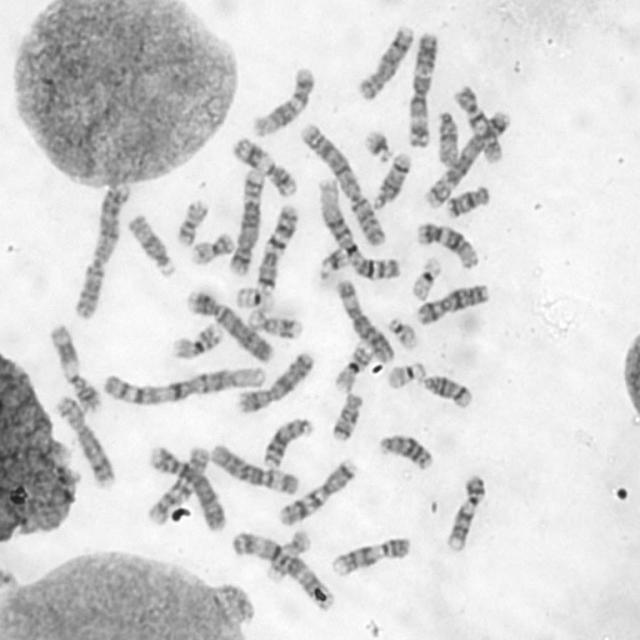A1: (317, 176, 401, 280), (103, 363, 264, 407)
A2: (300, 121, 387, 246), (75, 181, 130, 320)
A3: (232, 530, 335, 610), (407, 32, 441, 150)
B4: (148, 441, 228, 531), (187, 289, 275, 363)
B5: (424, 112, 513, 206), (227, 168, 265, 274)
C10: (149, 446, 212, 526), (450, 84, 502, 163)
C11: (48, 324, 102, 411), (234, 135, 298, 195)
C12: (253, 65, 317, 138), (414, 223, 478, 269)
C6: (208, 443, 298, 494), (336, 280, 392, 360)
C7: (279, 457, 358, 529), (255, 203, 297, 288)
C8: (56, 394, 116, 486), (357, 24, 415, 100)
C9: (330, 535, 410, 580), (446, 473, 490, 554)
D13: (262, 417, 316, 469), (377, 429, 434, 475)
D14: (372, 151, 411, 208), (419, 376, 474, 410)
D15: (126, 213, 176, 276), (435, 110, 461, 166)
E16: (334, 339, 374, 393), (172, 322, 222, 360)
E17: (267, 526, 311, 584), (248, 307, 302, 338)
E18: (329, 393, 362, 442), (448, 184, 489, 217)
F19: (412, 256, 444, 302), (235, 286, 276, 310)
F20: (176, 199, 211, 246), (190, 231, 234, 265)
G21: (318, 246, 352, 281), (363, 128, 392, 163)
G22: (386, 361, 426, 390), (388, 316, 418, 350)
X: (239, 351, 313, 413), (418, 282, 490, 325)
